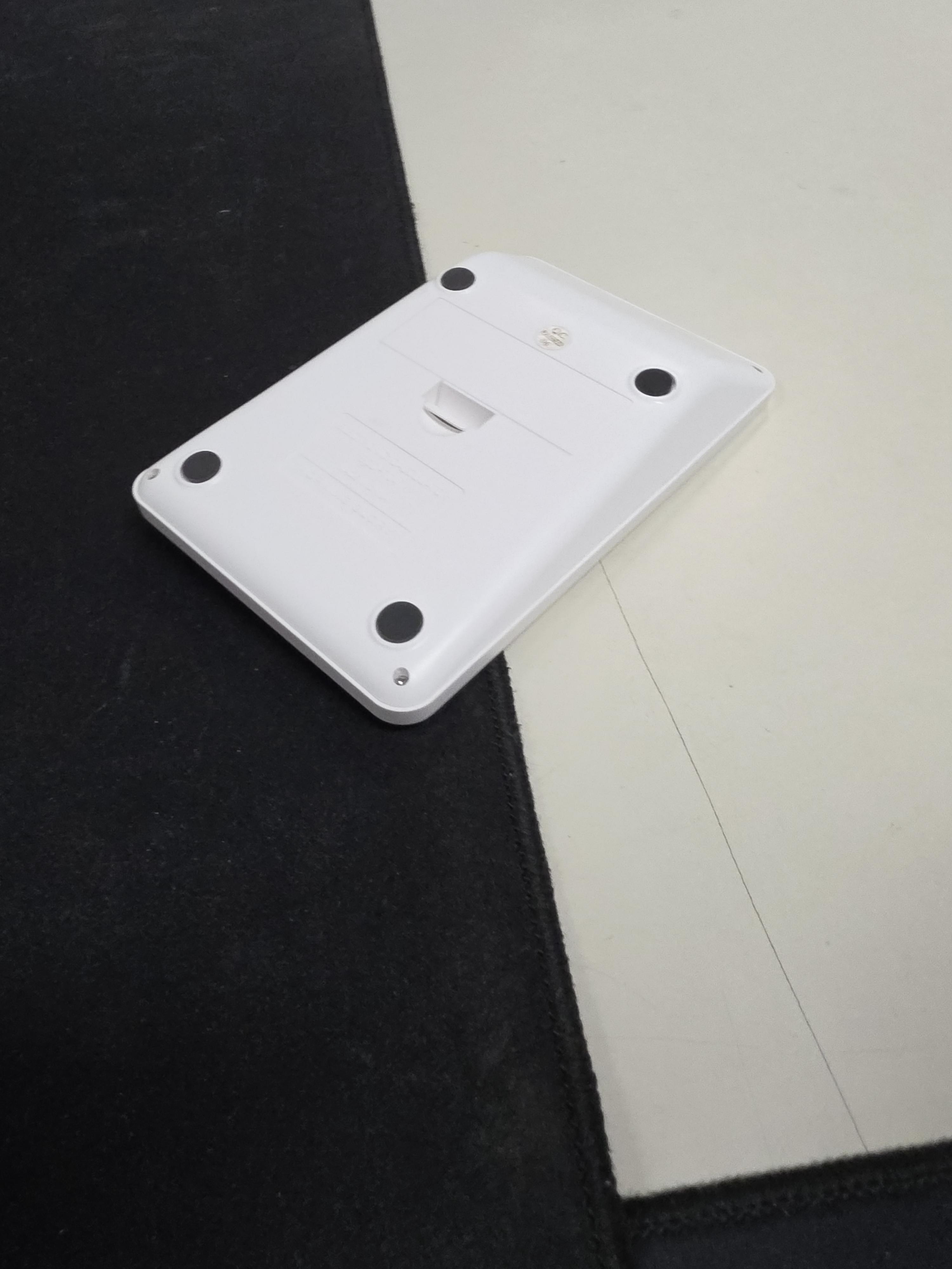calculator: (131, 251, 777, 726)
